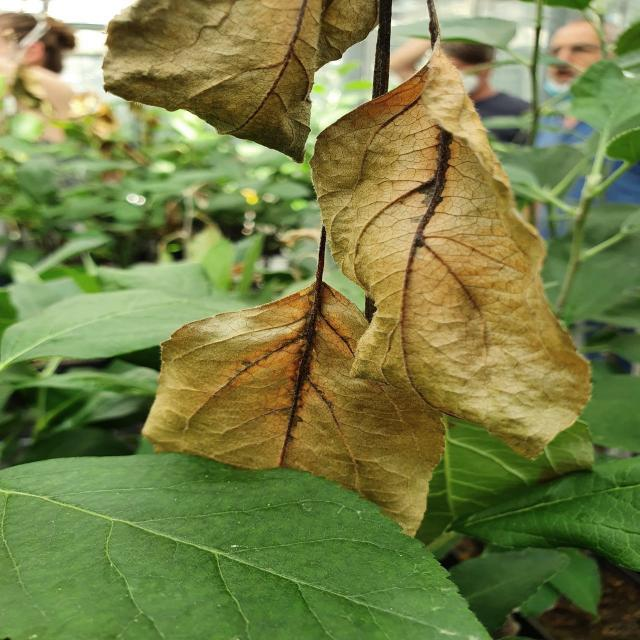-FireBlight-: (106, 0, 594, 456)
